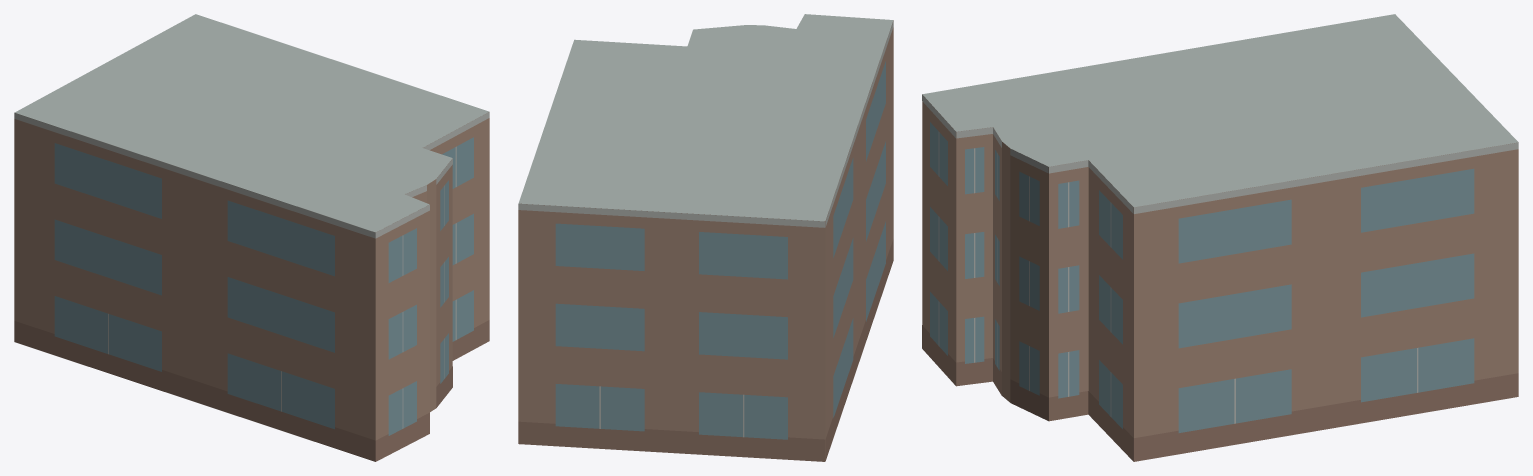
Rendered from survey-upis-32772116.glb.
The picture shows the model from 3 angles, left to right: view 1: azimuth 30°, elevation 25°; view 2: azimuth 150°, elevation 25°; view 3: azimuth 270°, elevation 25°; orthographic projection. The views are drawn at different scales.
Visible parts, largest first — view 1: survey-upis-32772116.tmp; view 2: survey-upis-32772116.tmp; view 3: survey-upis-32772116.tmp.
Part boxes in pixels (left/top/right/bottom): survey-upis-32772116.tmp: left=14, top=14, right=489, bottom=461; survey-upis-32772116.tmp: left=518, top=14, right=893, bottom=461; survey-upis-32772116.tmp: left=922, top=14, right=1518, bottom=461.
Size of the model in its own units: 14.93 by 9.15 by 19.45.
